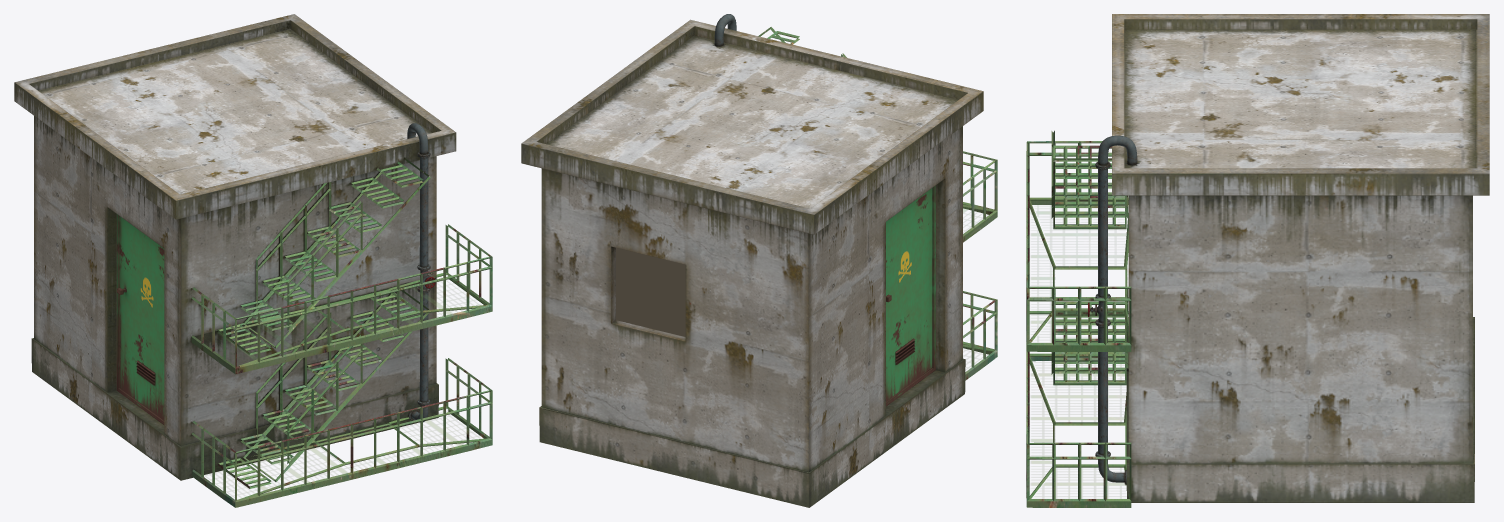
Rendered from roof-top_utility_room_prop.glb.
3 renders of one model, left to right at view 1: azimuth 30°, elevation 25°; view 2: azimuth 150°, elevation 25°; view 3: azimuth 270°, elevation 25°, orthographic. The views are drawn at different scales.
Visible parts, largest first — view 1: Cube_5, Cube.001_6, modular_industrial_pipes_01_pipe02_0, modular_industrial_pipes_01_pipe02.001_4; view 2: Cube_5, Cube.002_8, Cube.001_6; view 3: Cube_5, Cube.001_6, modular_industrial_pipes_01_pipe02_0, modular_industrial_pipes_01_pipe02.001_4, modular_industrial_pipes_01_pipe05_1.
Part boxes in pixels (bbox=[...]): Cube_5: bbox=[14, 14, 486, 493]; Cube.001_6: bbox=[191, 157, 492, 507]; modular_industrial_pipes_01_pipe02_0: bbox=[417, 154, 430, 269]; modular_industrial_pipes_01_pipe02.001_4: bbox=[417, 289, 430, 404]; Cube_5: bbox=[521, 19, 983, 507]; Cube.002_8: bbox=[616, 248, 685, 336]; Cube.001_6: bbox=[758, 27, 997, 380]; Cube_5: bbox=[1031, 14, 1489, 502]; Cube.001_6: bbox=[1026, 130, 1131, 507]; modular_industrial_pipes_01_pipe02_0: bbox=[1095, 165, 1110, 298]; modular_industrial_pipes_01_pipe02.001_4: bbox=[1095, 323, 1110, 456]; modular_industrial_pipes_01_pipe05_1: bbox=[1095, 135, 1138, 168].
Size of the model in its own units: 2.2 by 2.26 by 2.69.
Materials: 7 (6 with a texture image).
